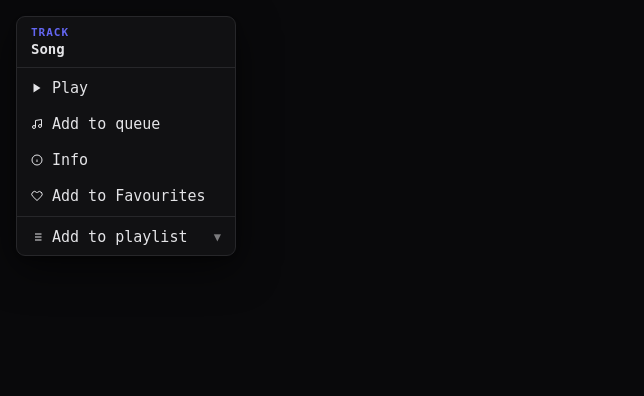
ContextMenuRoot › never offers smart playlists as targets but keeps their names taken
This screenshot has width=644, height=396.
Click the button "Add to playlist ▼": (126, 237) [17,219,235,255]
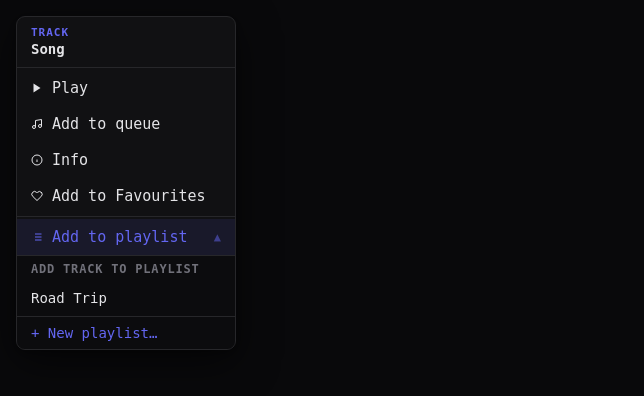
Expected: the button "Late night" is not shown
Result: the button "Road Trip" is shown at [17,282,235,314]
Click the button "+ New playlist…": (126, 332) [17,316,235,349]
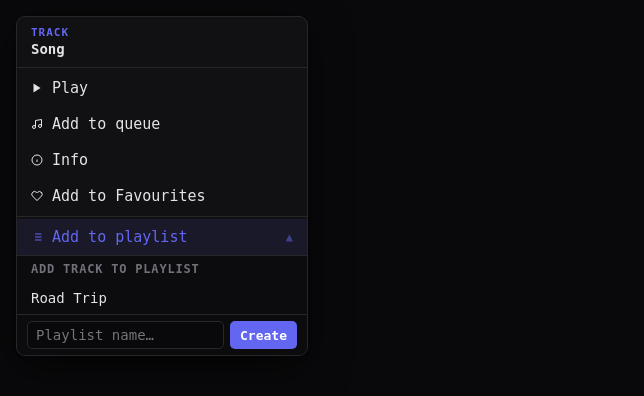
In the field with placeholder "Playlist name…": (126, 335) [27,321,224,349], type "late night"
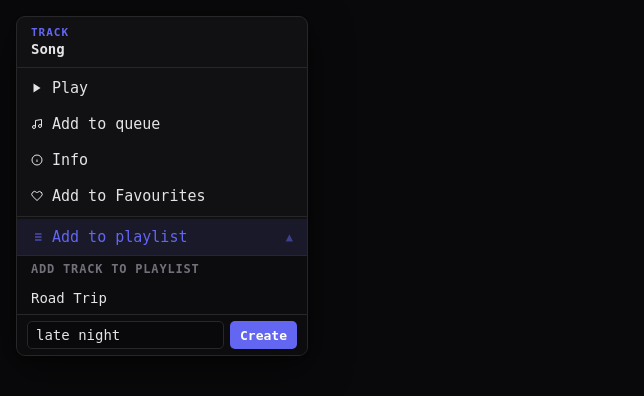
Press Enter in the field with placeholder "Playlist name…", box [27,321,224,349]
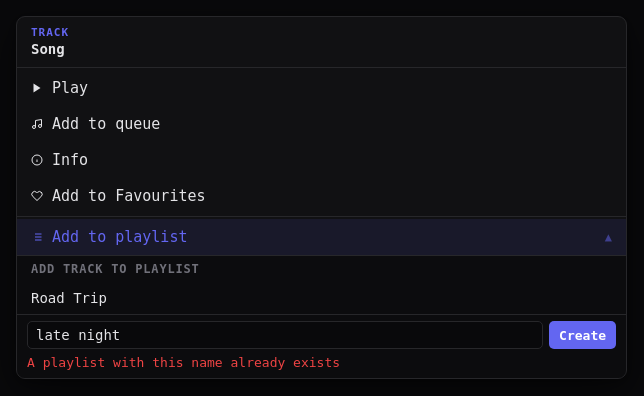
Result: the text "A playlist with this name already exists" is shown at [27,355,340,370]
